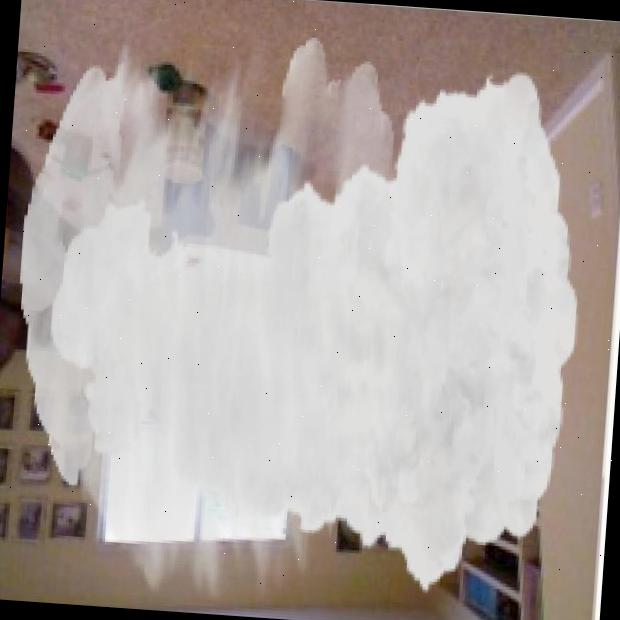smoke: (0, 18, 596, 620)
